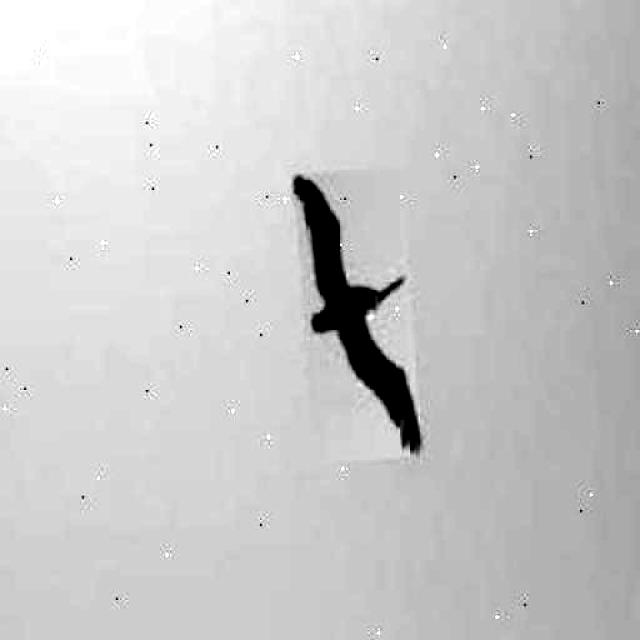airplane: (292, 166, 422, 462)
